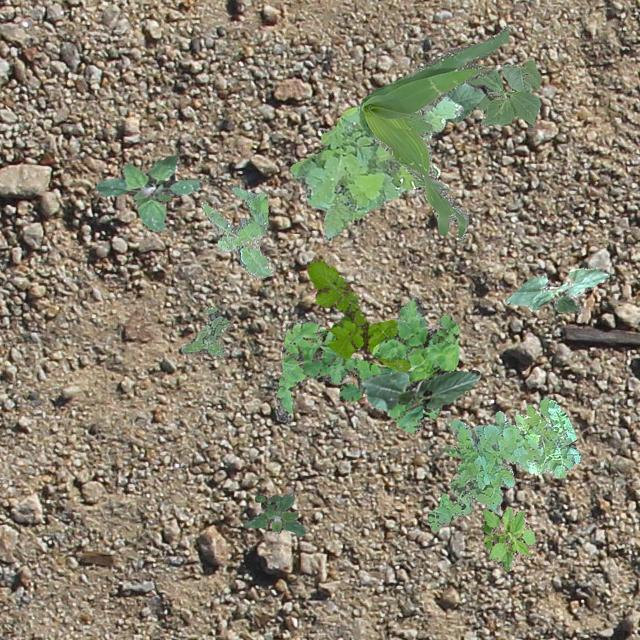crop: (359, 368, 478, 412), (464, 58, 540, 124), (504, 266, 608, 314), (430, 81, 488, 136)
weed: (358, 26, 508, 240), (274, 296, 458, 432), (290, 96, 462, 240), (426, 398, 580, 530), (306, 254, 410, 370), (95, 154, 202, 230), (200, 182, 272, 278), (480, 506, 536, 570), (180, 304, 232, 358), (242, 492, 304, 534)
